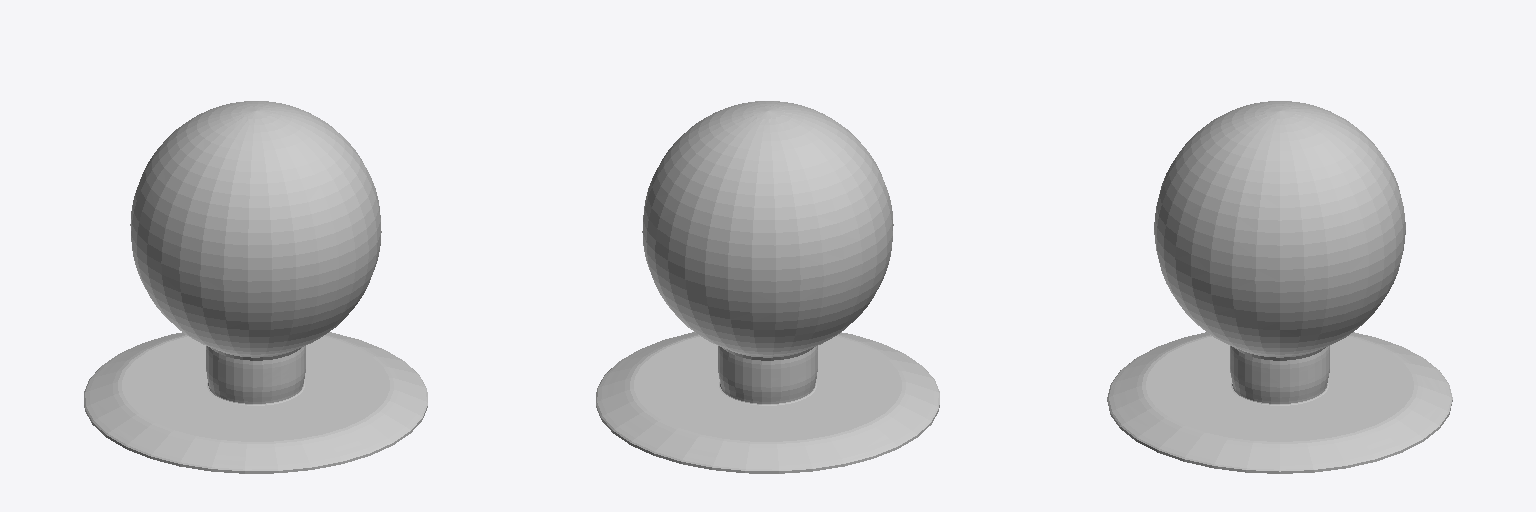
Rendered from mitsuba-sphere-inner.obj.
The picture shows the model from 3 angles: view 1: azimuth 30°, elevation 25°; view 2: azimuth 150°, elevation 25°; view 3: azimuth 270°, elevation 25°; orthographic projection.
Visible parts, largest first — view 1: 2; view 2: 2; view 3: 2.
Boxes of the visible parts, x1,y1,x2,y2 form: 2: [84, 101, 427, 473]; 2: [596, 101, 939, 473]; 2: [1107, 101, 1452, 473].
Size of the model in its own units: 2.31 by 2.14 by 2.31.